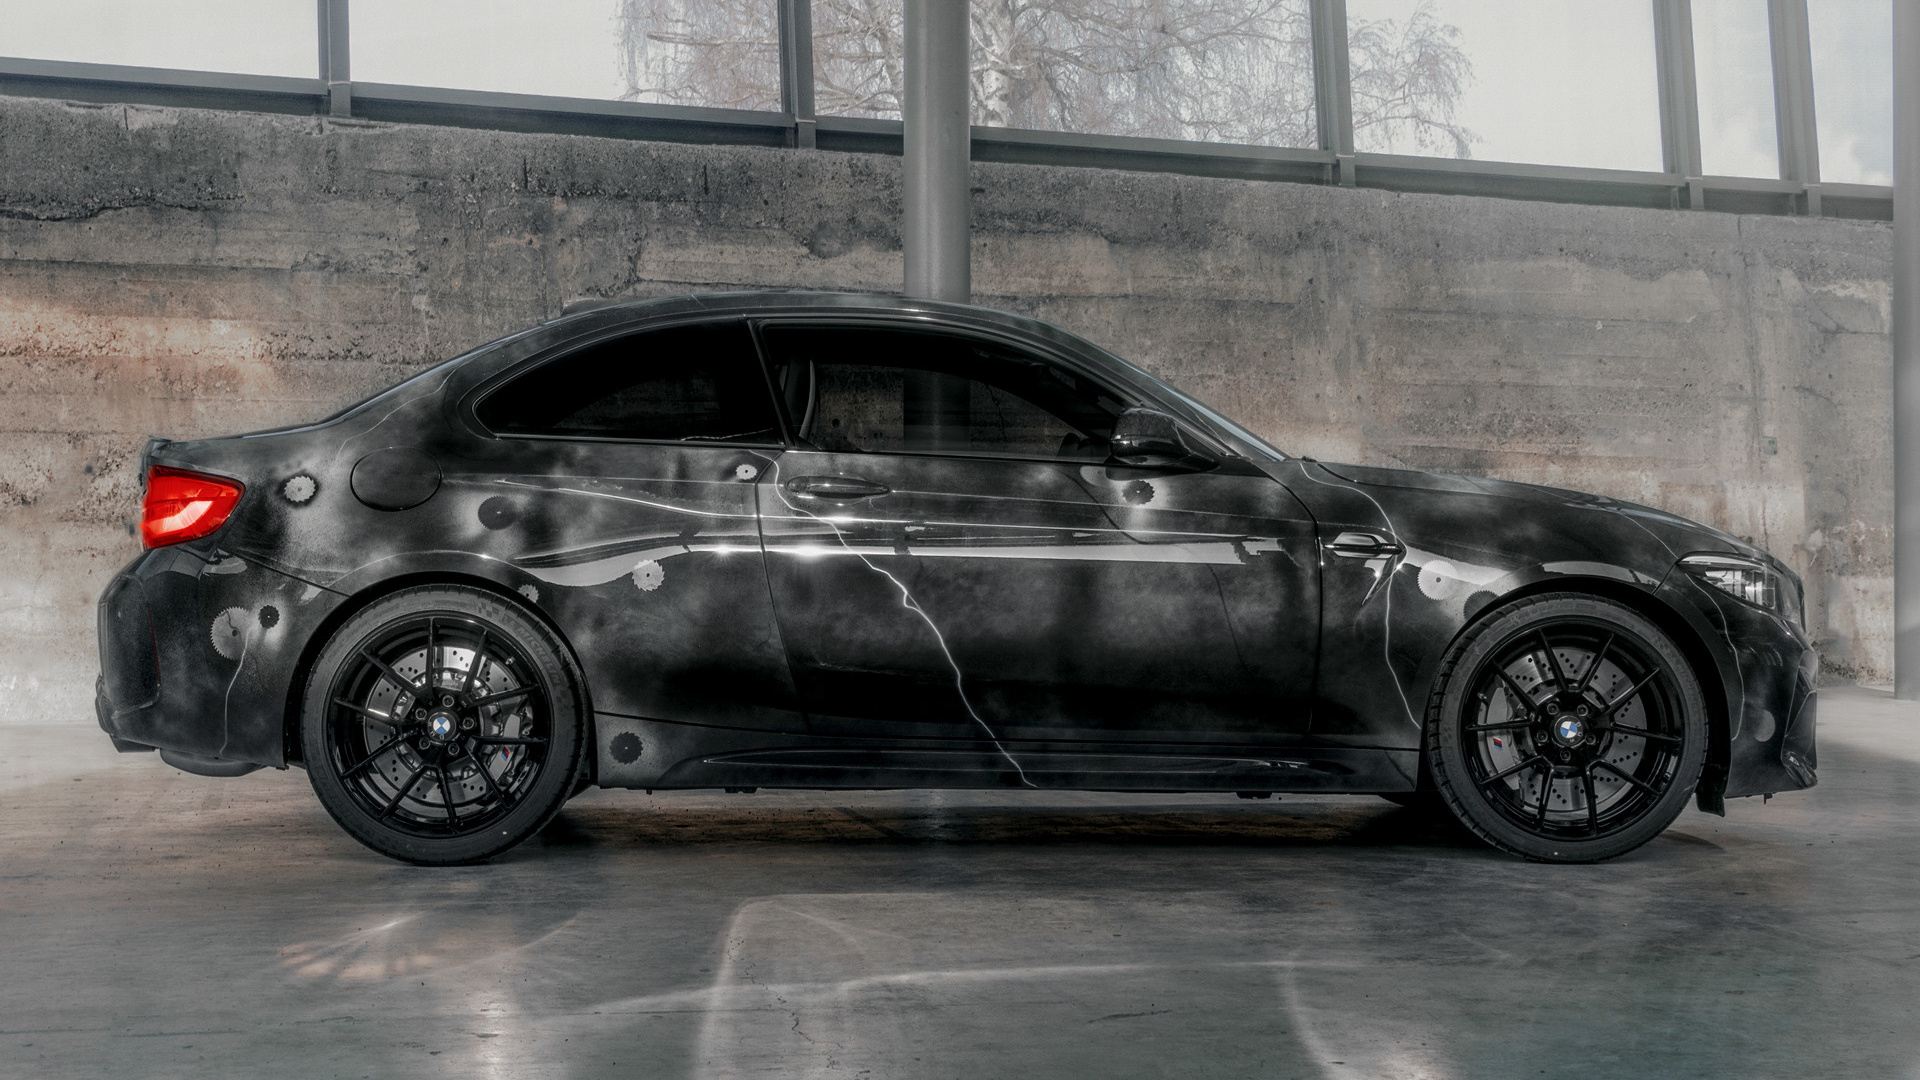car: (76, 265, 1832, 866)
